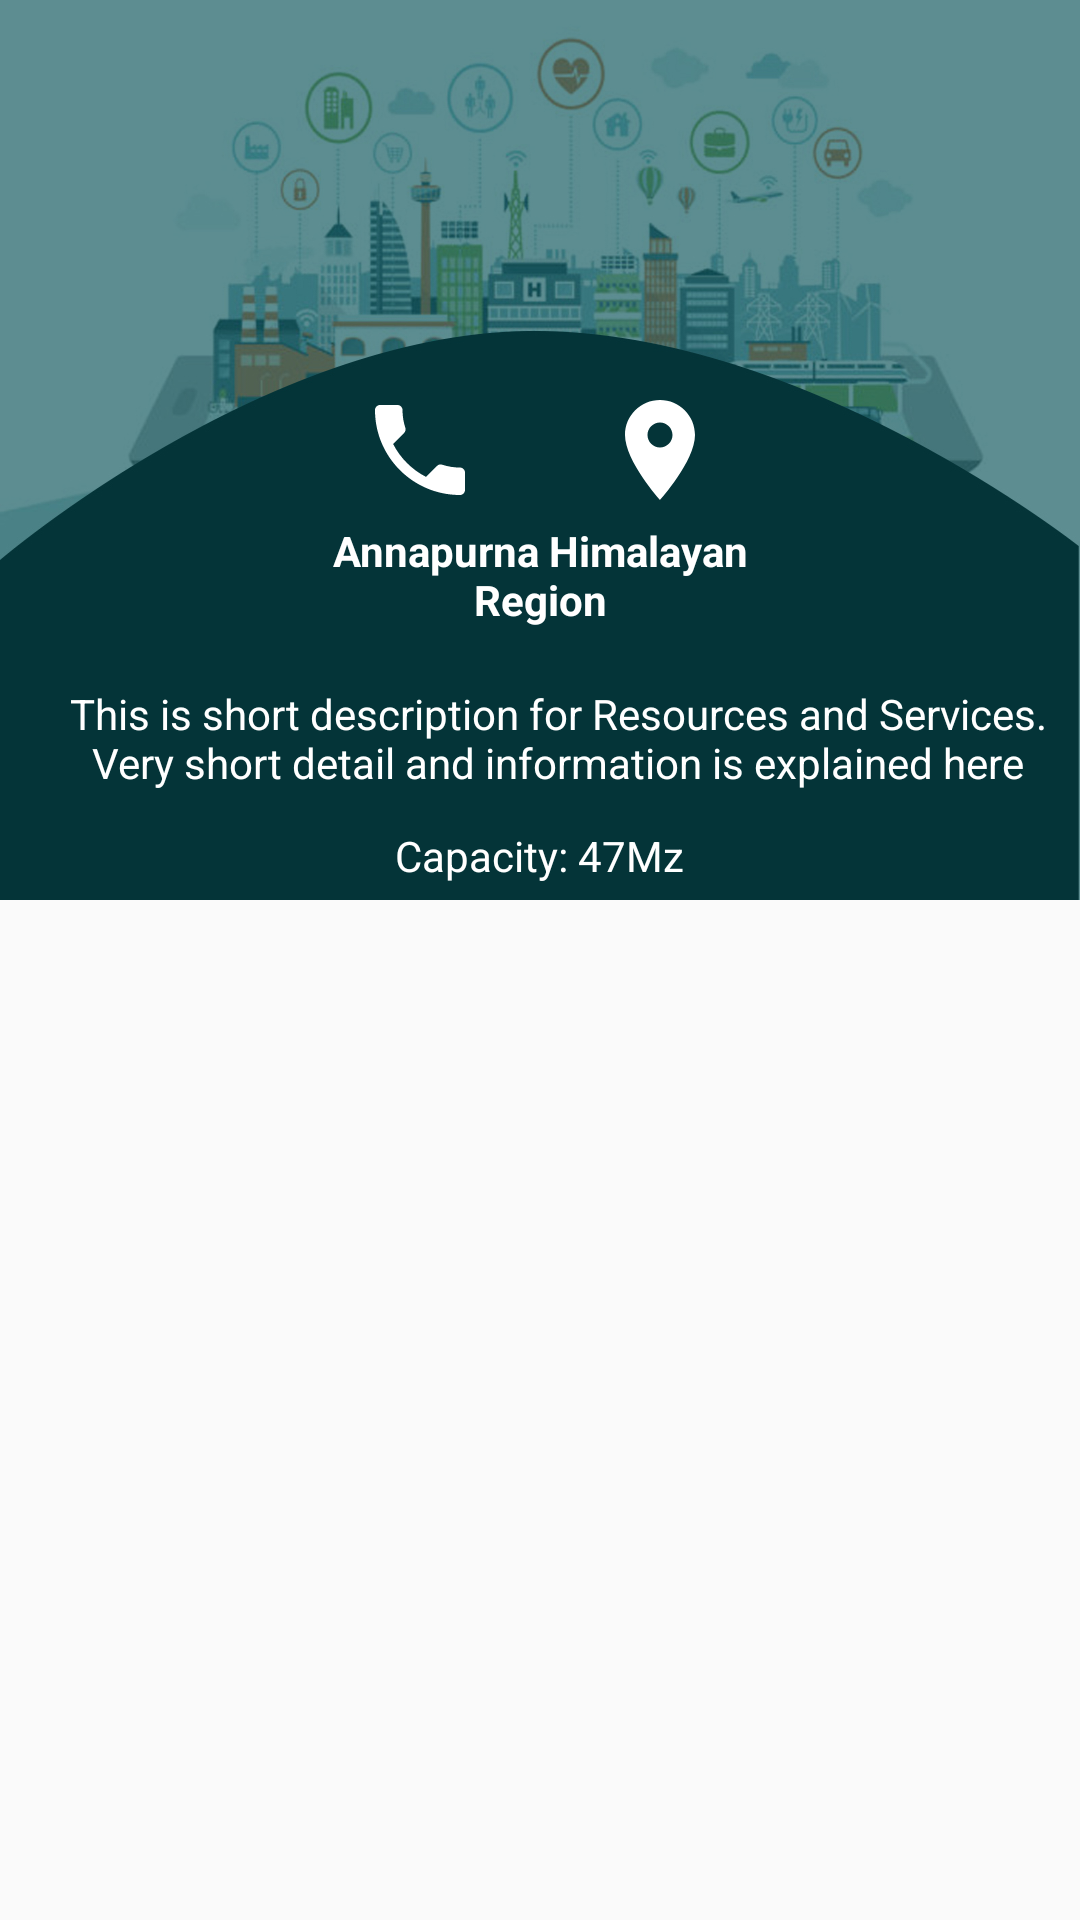

Icon bounding boxes for this 1080px×1920px phone screenshot, format {"left": x1, "top": y1, "right": x2, "bottom": y2}:
location on: {"left": 625, "top": 400, "right": 695, "bottom": 500}
phone: {"left": 375, "top": 405, "right": 465, "bottom": 495}
